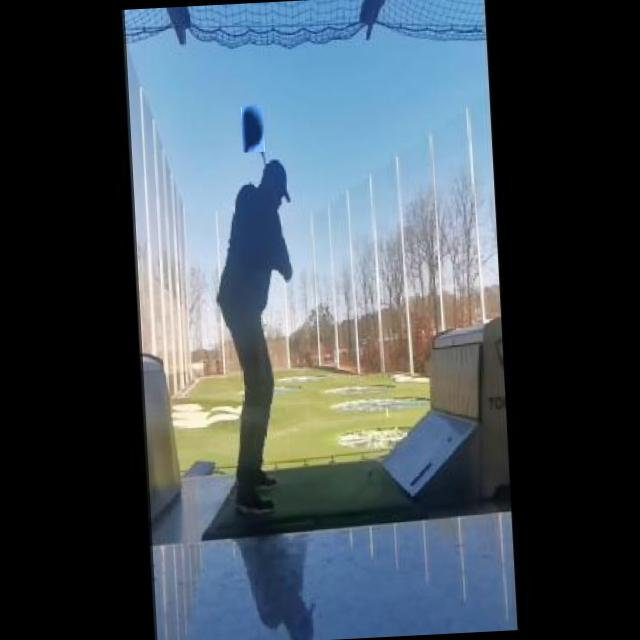club head: (241, 106, 265, 152)
